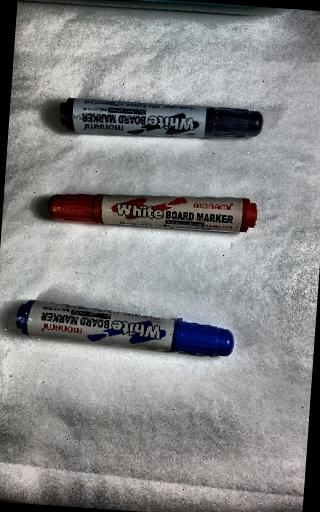marcador azul: (16, 300, 233, 356)
marcador negro: (59, 97, 263, 138)
marcador rojo: (49, 194, 257, 232)
